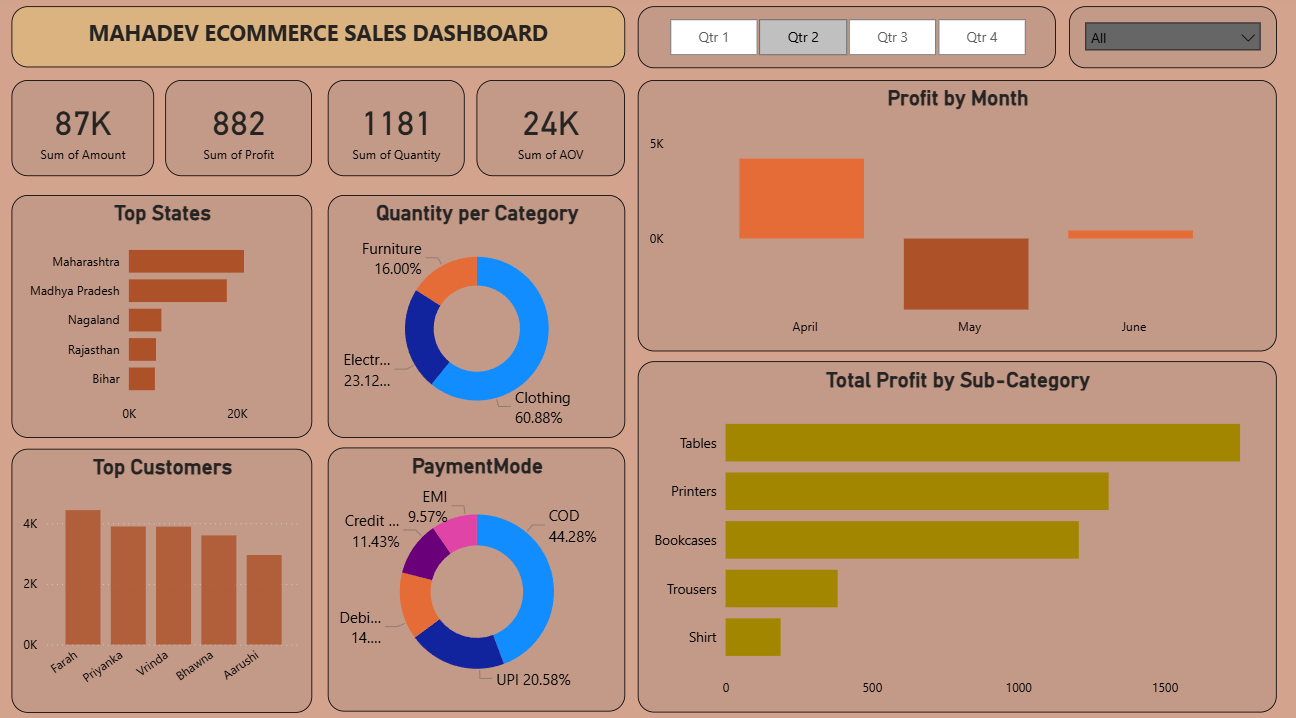

Layout of this report page (visuals, bound fields, positions):
{"tool":"powerbi","page":{"name":"Page 1","canvas":[1280,720],"ordinal":0},"visuals":[{"type":"textbox","box":[12.3,11,602.4,60.4],"z":0},{"type":"columnChart","title":"Profit by Month","fields":{"Y":["Sum(Details.Profit)"],"Category":["Orders.Order Date.Variation.Date Hierarchy.Month"]},"box":[627.1,83.7,627.1,266.2],"z":1000},{"type":"clusteredBarChart","title":"Total Profit by Sub-Category","fields":{"Category":["Details.Sub-Category"],"Y":["Sum(Details.Profit)"]},"box":[627.1,359.5,627.1,344.4],"z":2000},{"type":"pieChart","title":"Quantity per Category","fields":{"Category":["Details.Category"],"Y":["Sum(Details.Quantity)"]},"box":[322.5,196.2,292.3,238.8],"z":3000},{"type":"pieChart","title":" PaymentMode","fields":{"Y":["Sum(Details.Quantity)"],"Category":["Details.PaymentMode"]},"box":[322.5,444.6,292.3,259.3],"z":4000},{"type":"card","fields":{"Values":["Sum(Details.Profit)"]},"box":[163.3,83.7,144.1,94.7],"z":5000},{"type":"card","fields":{"Values":["Sum(Details.Amount)"]},"box":[12.3,83.7,140,94.7],"z":6000},{"type":"card","fields":{"Values":["Sum(Details.Quantity)"]},"box":[322.5,83.7,134.5,94.7],"z":7000},{"type":"card","fields":{"Values":["Sum(Details.AOV)"]},"box":[469.3,83.7,145.5,94.7],"z":8000},{"type":"barChart","title":"Top States","fields":{"Category":["Orders.State"],"Y":["Sum(Details.Amount)"]},"box":[12.3,196.2,295,238.8],"z":9000},{"type":"columnChart","title":" Top Customers","fields":{"Category":["Orders.CustomerName"],"Y":["Sum(Details.Amount)"]},"box":[12,445,295,259],"z":10000},{"type":"slicer","fields":{"Values":["Orders.Order Date.Variation.Date Hierarchy.Quarter"]},"box":[627,11.2,410.5,61],"z":11000},{"type":"slicer","fields":{"Values":["Orders.City"]},"box":[1049.9,11.2,204,61],"z":12000}]}

Visuals, with their boxes in screenshot pixels (x1, y1, x2, y2), scaled from the page's 1280x720 canvas onto the 1296x718 screenshot:
textbox: {"left": 12, "top": 11, "right": 622, "bottom": 71}
"Profit by Month" columnChart: {"left": 635, "top": 83, "right": 1270, "bottom": 349}
"Total Profit by Sub-Category" clusteredBarChart: {"left": 635, "top": 359, "right": 1270, "bottom": 702}
"Quantity per Category" pieChart: {"left": 327, "top": 196, "right": 622, "bottom": 434}
" PaymentMode" pieChart: {"left": 327, "top": 443, "right": 622, "bottom": 702}
card - Sum(Details.Profit): {"left": 165, "top": 83, "right": 311, "bottom": 178}
card - Sum(Details.Amount): {"left": 12, "top": 83, "right": 154, "bottom": 178}
card - Sum(Details.Quantity): {"left": 327, "top": 83, "right": 463, "bottom": 178}
card - Sum(Details.AOV): {"left": 475, "top": 83, "right": 622, "bottom": 178}
"Top States" barChart: {"left": 12, "top": 196, "right": 311, "bottom": 434}
" Top Customers" columnChart: {"left": 12, "top": 444, "right": 311, "bottom": 702}
slicer - Orders.Order Date.Variation.Date Hierarchy.Quarter: {"left": 635, "top": 11, "right": 1050, "bottom": 72}
slicer - Orders.City: {"left": 1063, "top": 11, "right": 1270, "bottom": 72}
